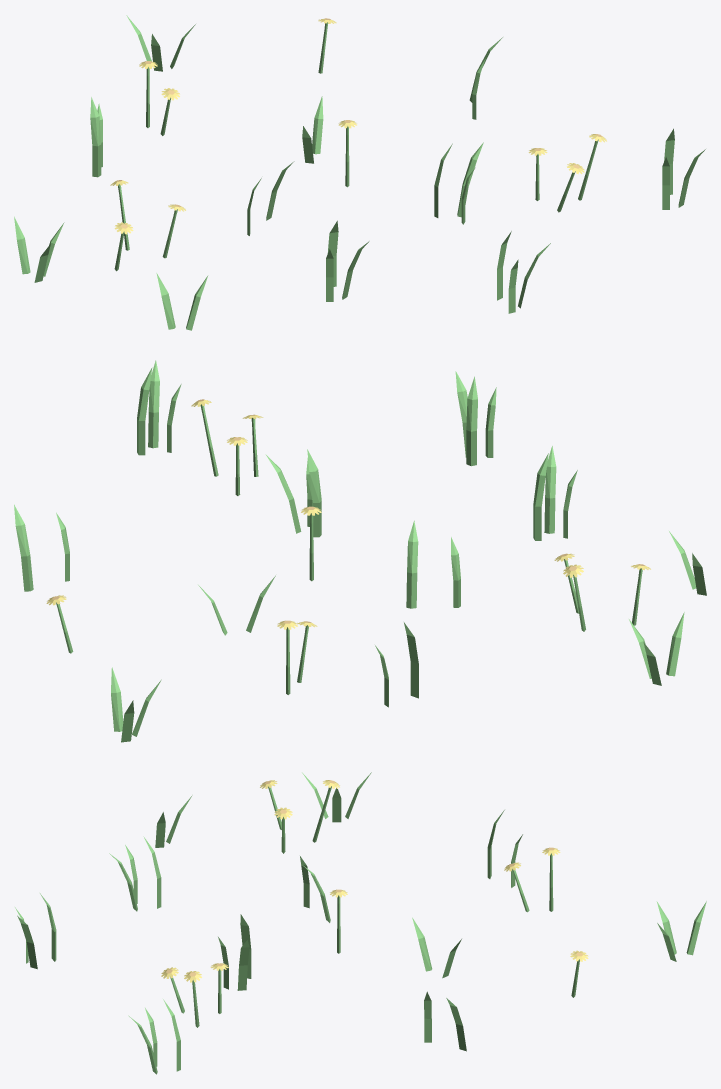
File: Dandilion.fbx
3 views of the same model, one above another, from view 1: azimuth 30°, elevation 25°; view 2: azimuth 150°, elevation 25°; view 3: azimuth 270°, elevation 25° (orthographic). The views are drawn at different scales.
Visible parts, largest first — view 1: Dandilion; view 2: Dandilion; view 3: Dandilion.
Part boxes in pixels (x1,y1,x2,y2): Dandilion: (14, 15, 705, 330); Dandilion: (14, 360, 706, 742); Dandilion: (15, 772, 706, 1074).
Size of the model in its own units: 5.17 by 0.7051 by 5.66.
